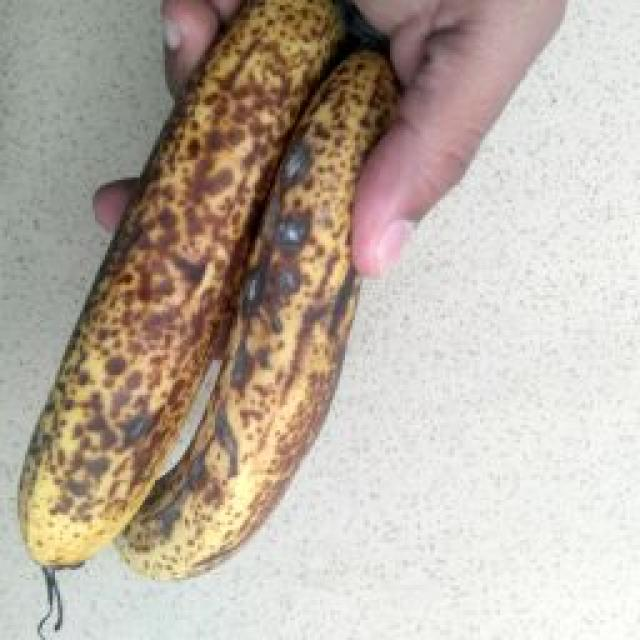banana: (96, 86, 550, 640)
